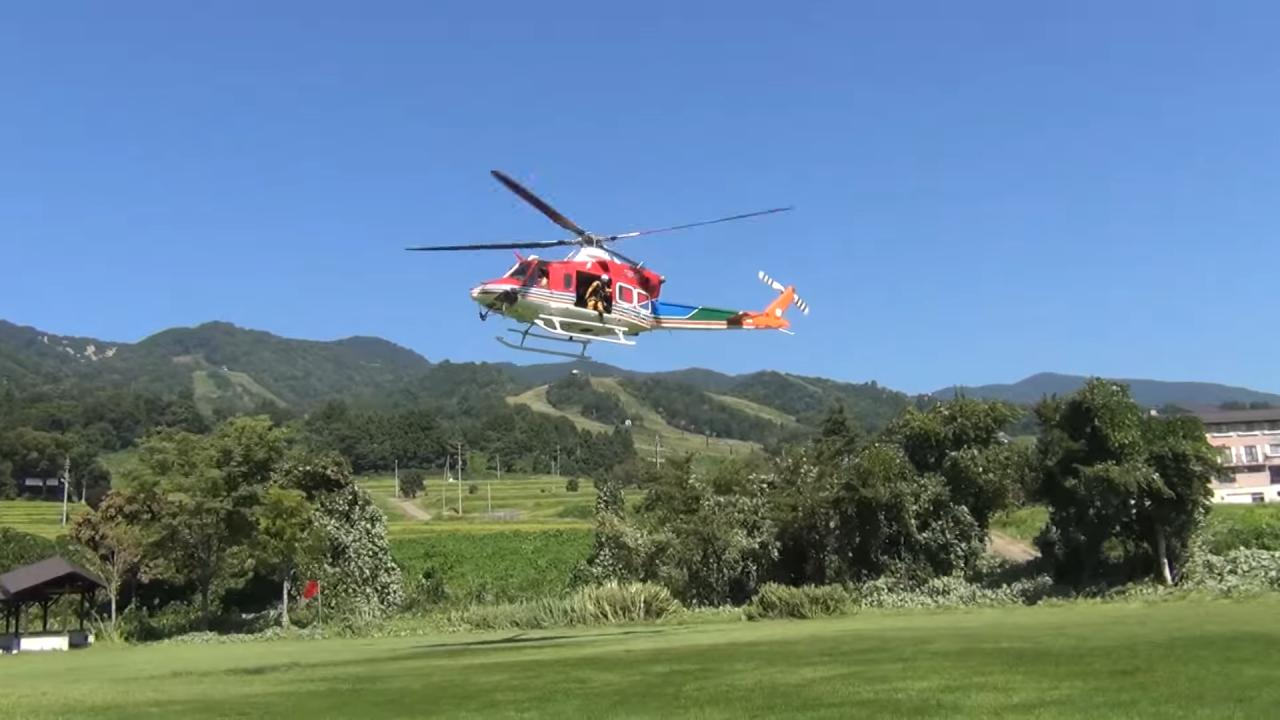Helicopter: (392, 154, 824, 372)
